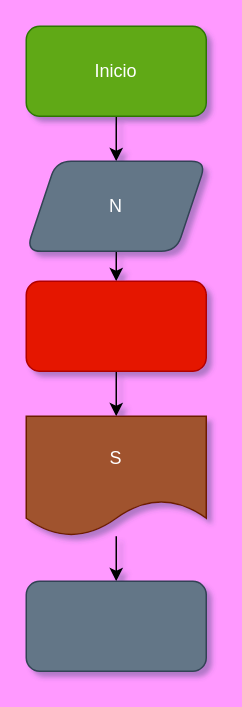
Image size: 242x707. Some labels were removed from this diagram. The shapes that lost their labels are listed below. From the top down, each one's box as (x1, y1, x2, y2) in pixels, then its label:
(25, 280, 206, 371): S= N*(N+1)/2
(25, 580, 206, 671): Final
